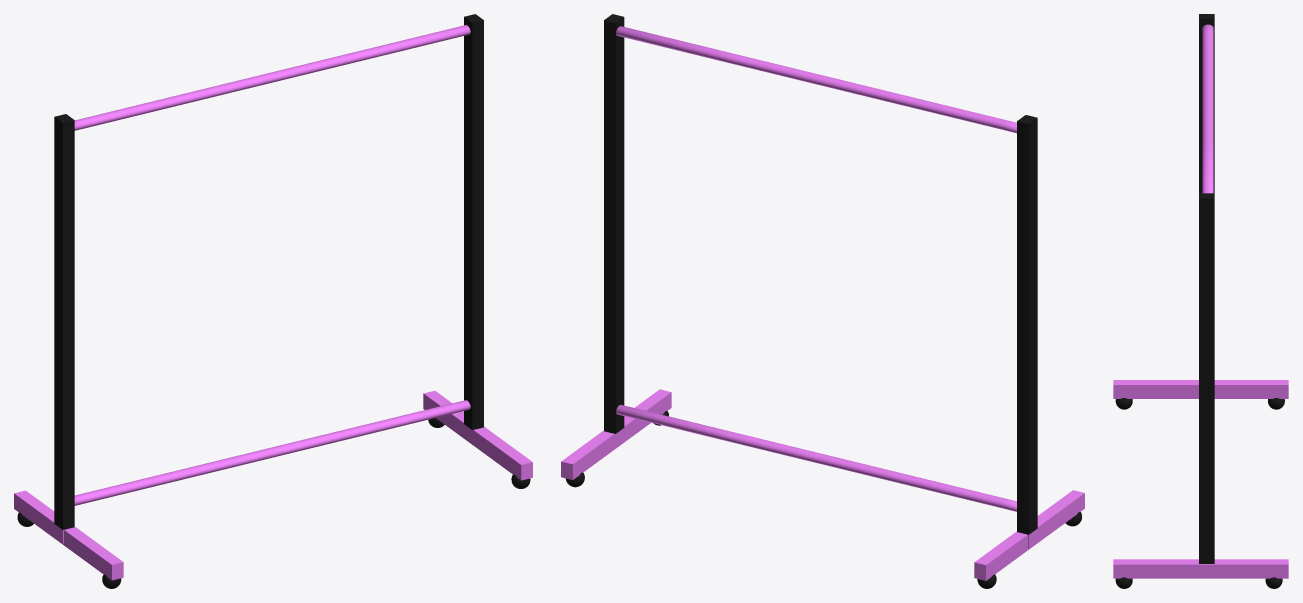
File: Shelf4.fbx
The picture shows the model from 3 angles, left to right: view 1: azimuth 30°, elevation 25°; view 2: azimuth 150°, elevation 25°; view 3: azimuth 270°, elevation 25°; orthographic projection. The views are drawn at different scales.
Visible parts, largest first — view 1: Cube.030, Cube.031, Cylinder.012, Cylinder.013, Cube.032, Cube.033; view 2: Cube.030, Cube.031, Cylinder.012, Cylinder.013, Cube.032, Cube.033; view 3: Cube.031, Cube.033, Cube.032, Cylinder.012, Cube.030.
Part boxes in pixels (x1,y1,x2,y2): Cube.030: (54,114,74,543); Cube.031: (464,14,483,429); Cylinder.012: (74,25,470,130); Cylinder.013: (74,400,470,505); Cube.032: (14,490,123,580); Cube.033: (423,390,532,480); Cube.030: (1017,115,1037,548); Cube.031: (604,14,624,433); Cylinder.012: (616,26,1016,133); Cylinder.013: (616,404,1016,511); Cube.032: (974,490,1084,580); Cube.033: (561,389,671,479); Cube.031: (1199,193,1214,563); Cube.033: (1113,559,1288,578); Cube.032: (1113,380,1288,398); Cylinder.012: (1202,24,1213,193); Cube.030: (1199,14,1214,193).
Bounding box in the file's own units: 4.28 × 4.19 × 1.7.
